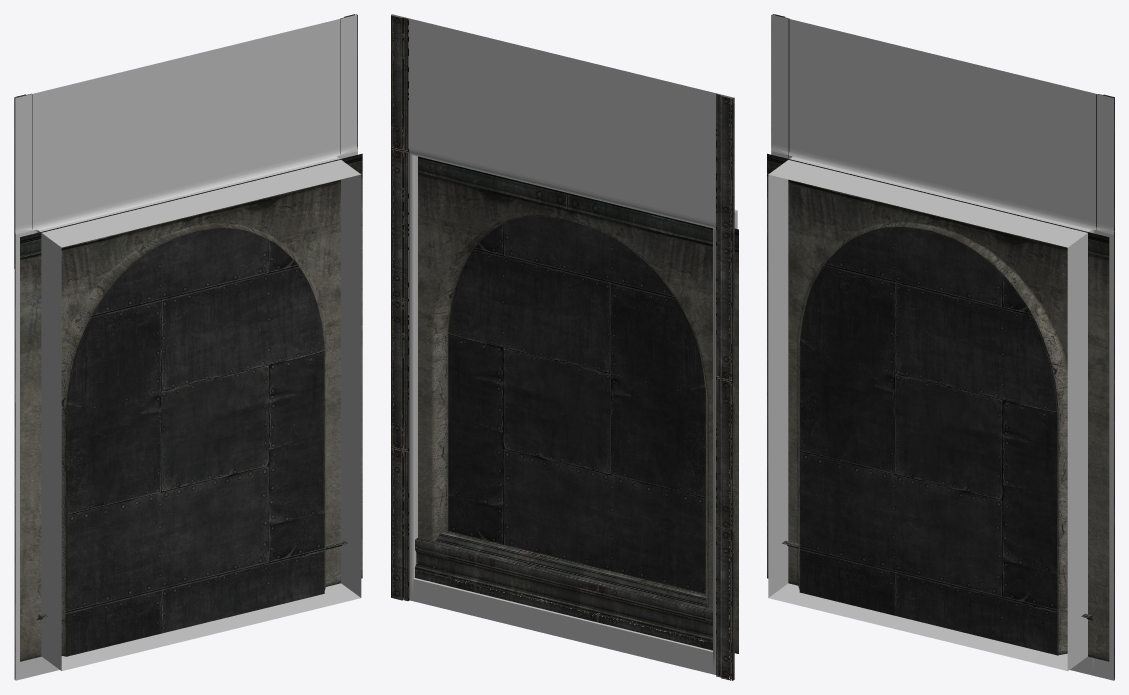
Rendered from tesla_modules1_wall_simple_metal.dae.
3 views of the same model, side by side, from view 1: azimuth 30°, elevation 25°; view 2: azimuth 150°, elevation 25°; view 3: azimuth 330°, elevation 25° (orthographic).
Parts seen in each view (by area): view 1: polySurface146, polySurface138, polySurface144, polySurface147; view 2: polySurface146, polySurface138, polySurface147, polySurface144; view 3: polySurface146, polySurface138, polySurface144, polySurface147.
Boxes of the visible parts, <box> form: polySurface146: <box>66,228,324,656</box>; polySurface138: <box>15,14,361,680</box>; polySurface144: <box>20,153,362,661</box>; polySurface147: <box>14,14,357,679</box>; polySurface146: <box>448,216,705,638</box>; polySurface138: <box>391,14,737,678</box>; polySurface147: <box>391,15,734,680</box>; polySurface144: <box>418,156,738,653</box>; polySurface146: <box>799,226,1058,655</box>; polySurface138: <box>768,14,1114,680</box>; polySurface144: <box>767,153,1109,661</box>; polySurface147: <box>771,14,1114,680</box>.
Size of the model in its own units: 4 by 6.5 by 0.5359.
